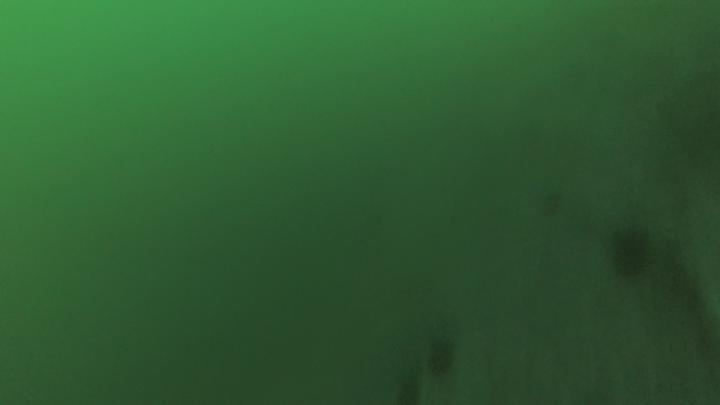echinus: (606, 223, 655, 281), (423, 333, 460, 381)
